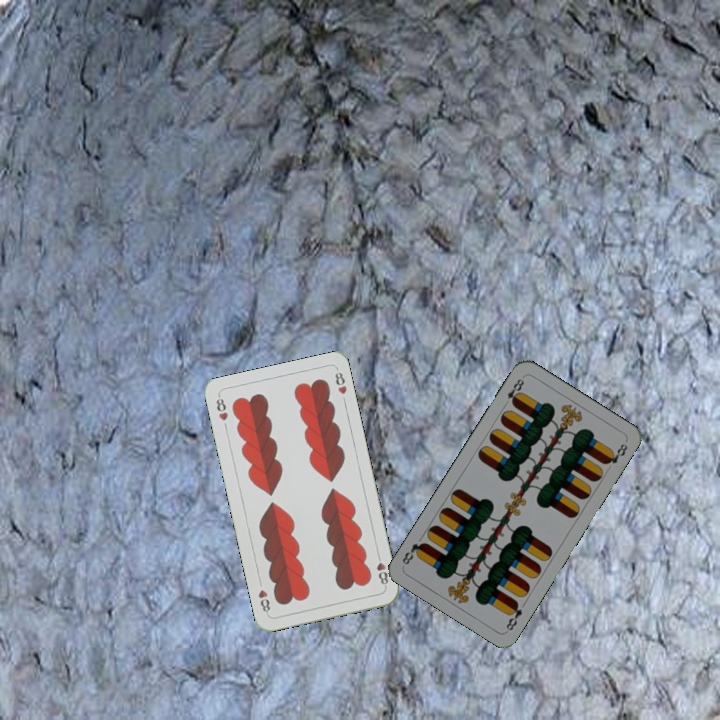E8: (500, 373, 527, 408), (502, 597, 525, 633)
H8: (372, 550, 391, 590), (212, 392, 231, 423)
